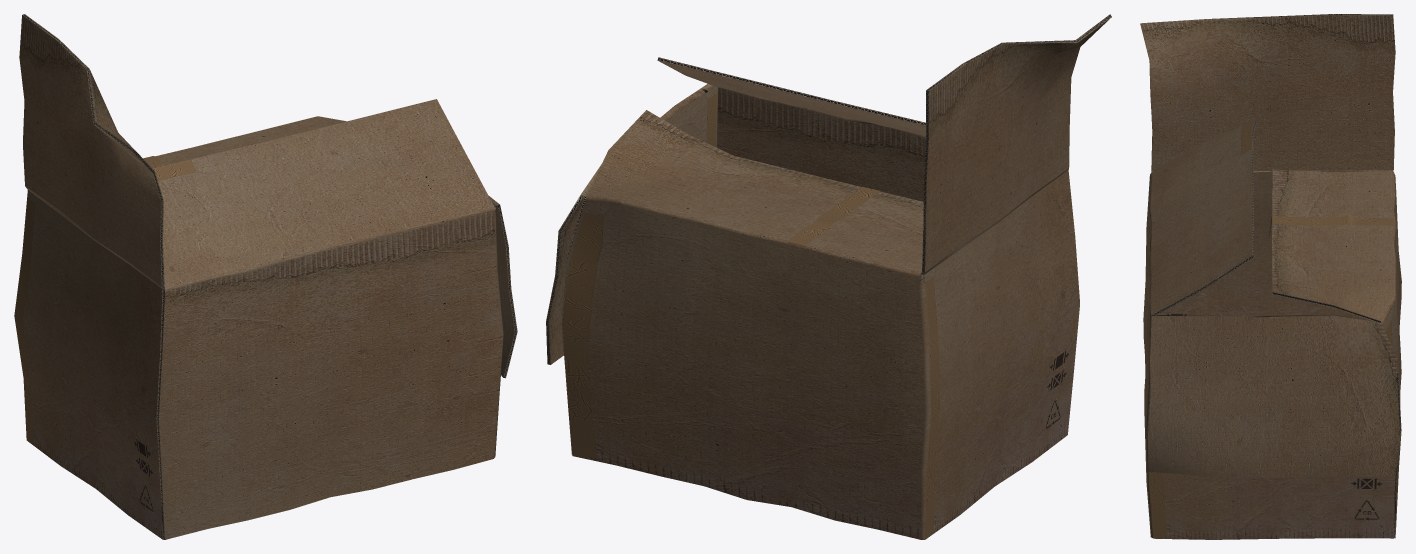
The model's file is SM_CardboardB.FBX.
The picture shows the model from 3 angles, left to right: view 1: azimuth 30°, elevation 25°; view 2: azimuth 150°, elevation 25°; view 3: azimuth 270°, elevation 25°; orthographic projection. The views are drawn at different scales.
Parts seen in each view (by area): view 1: SM_CardboardB_LOD0; view 2: SM_CardboardB_LOD0; view 3: SM_CardboardB_LOD0.
Boxes of the visible parts, x1,y1,x2,y2 form: SM_CardboardB_LOD0: (14, 14, 517, 539); SM_CardboardB_LOD0: (546, 14, 1111, 539); SM_CardboardB_LOD0: (1140, 14, 1401, 539).
Size of what is drawn, in the model's own units: 83.4 by 86.62 by 53.98.
